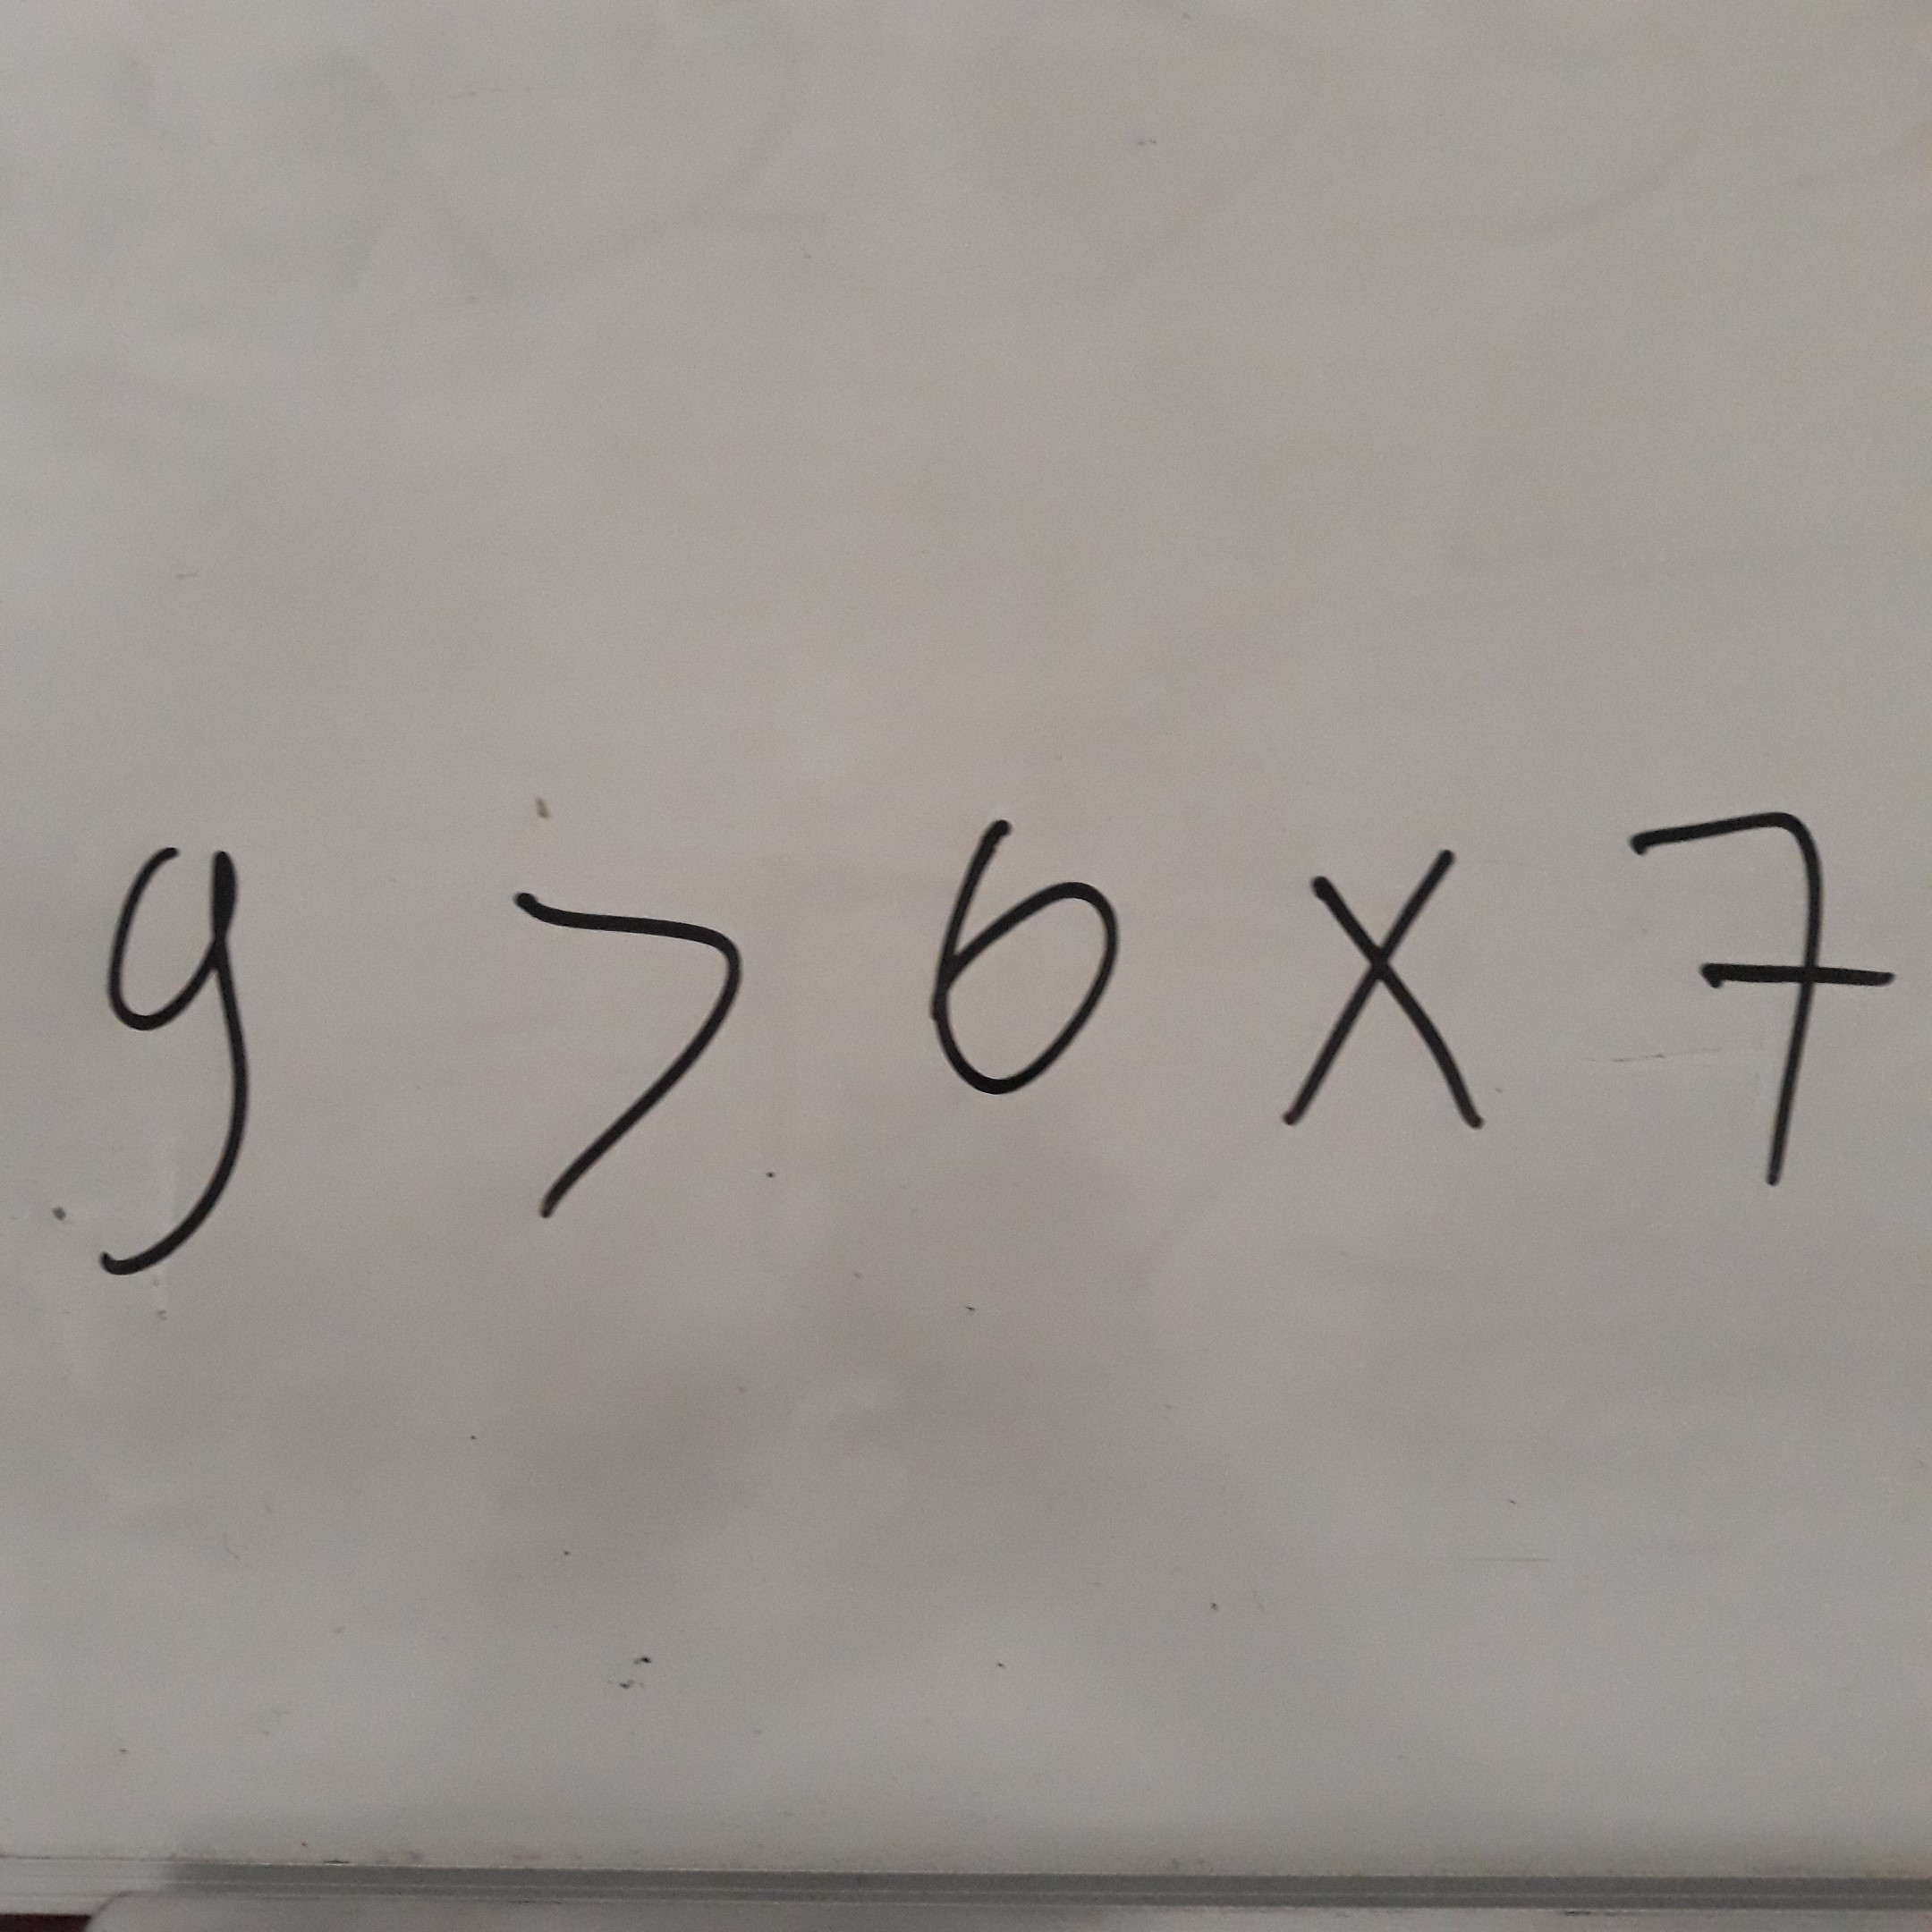morethan: (488, 804, 765, 1236)
multi: (1248, 825, 1517, 1173)
num6: (902, 801, 1137, 1126)
num7: (1577, 769, 1911, 1214)
num9: (58, 823, 311, 1307)
